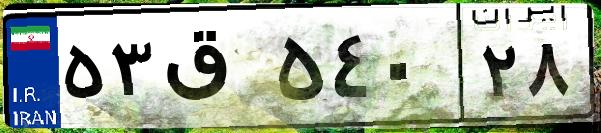0: (385, 28, 445, 110)
2: (475, 38, 525, 113)
3: (110, 28, 158, 98)
4: (330, 28, 385, 110)
5: (270, 28, 330, 110), (57, 26, 110, 100)
8: (525, 38, 570, 115)
ق: (158, 20, 270, 120)
